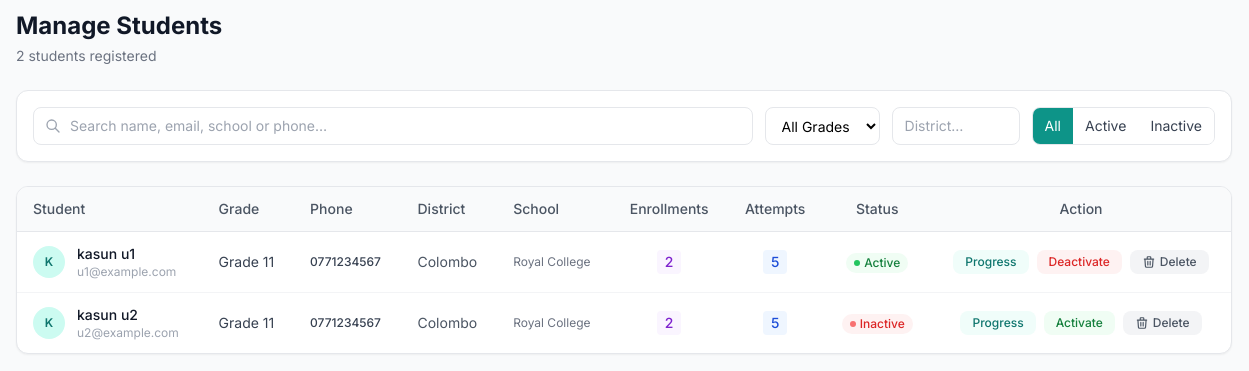
Test: Manage students › deletes a student only after confirming
Step 1. Click the button titled "Permanently Delete" in the row of "kasun u1" → click(1169, 262), box [1130, 250, 1209, 274]
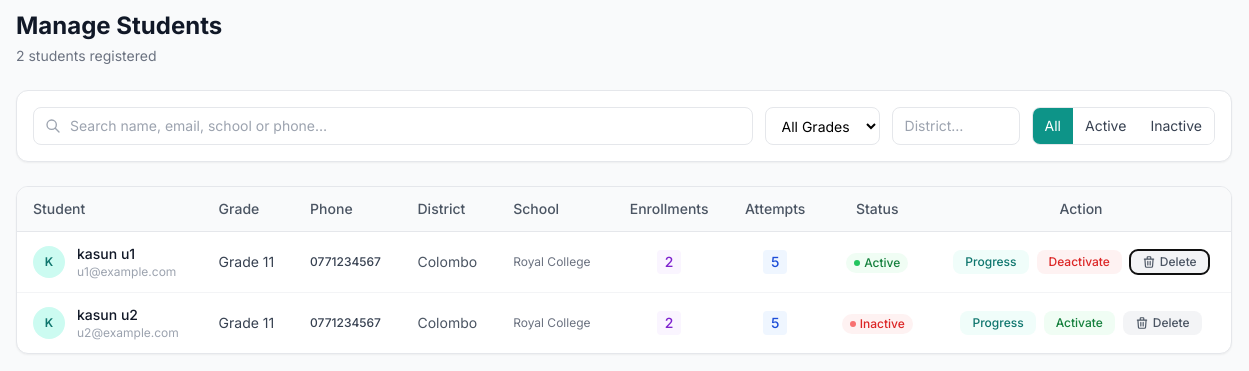
Step 2. Click the button titled "Permanently Delete" in the row of "kasun u1" → click(1169, 262), box [1130, 250, 1209, 274]
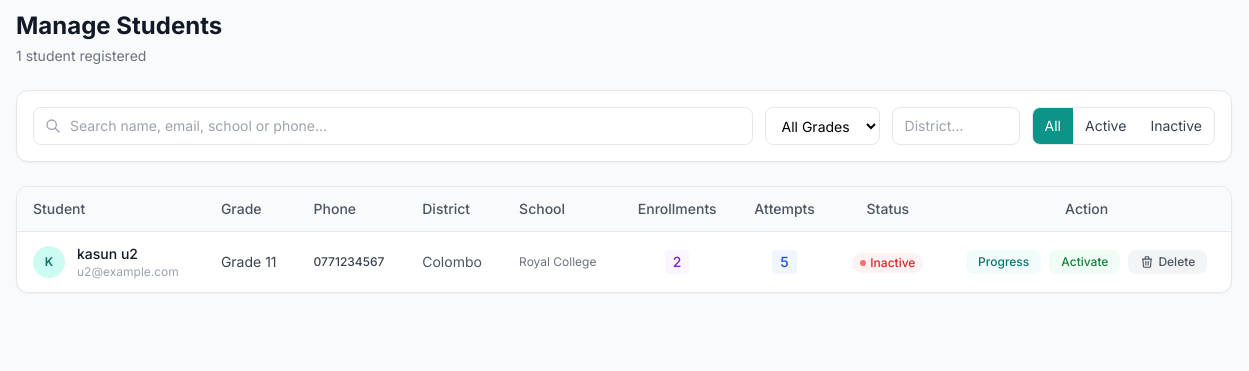
Check: the text "kasun u1" is gone
Check: the text "1 student registered" is shown, box [16, 47, 146, 64]
